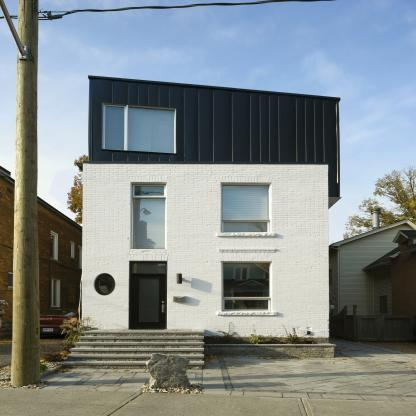Building Outline: (59, 75, 343, 369)
Cornice: (218, 248, 276, 261), (219, 176, 274, 183), (127, 255, 168, 261), (129, 176, 168, 182)
Door: (130, 274, 167, 329)
Facade: (58, 75, 343, 369)
Floor Slab: (84, 251, 329, 260), (84, 174, 338, 182)
Sill: (216, 312, 277, 316), (216, 233, 276, 237)
Window: (103, 103, 176, 153), (222, 264, 270, 311), (222, 185, 270, 232), (133, 185, 166, 249), (132, 263, 166, 273)
